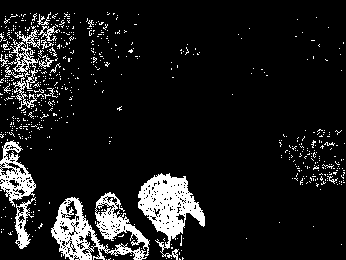person: (138, 170, 205, 256), (1, 141, 37, 250), (94, 191, 149, 260), (54, 195, 95, 260)
